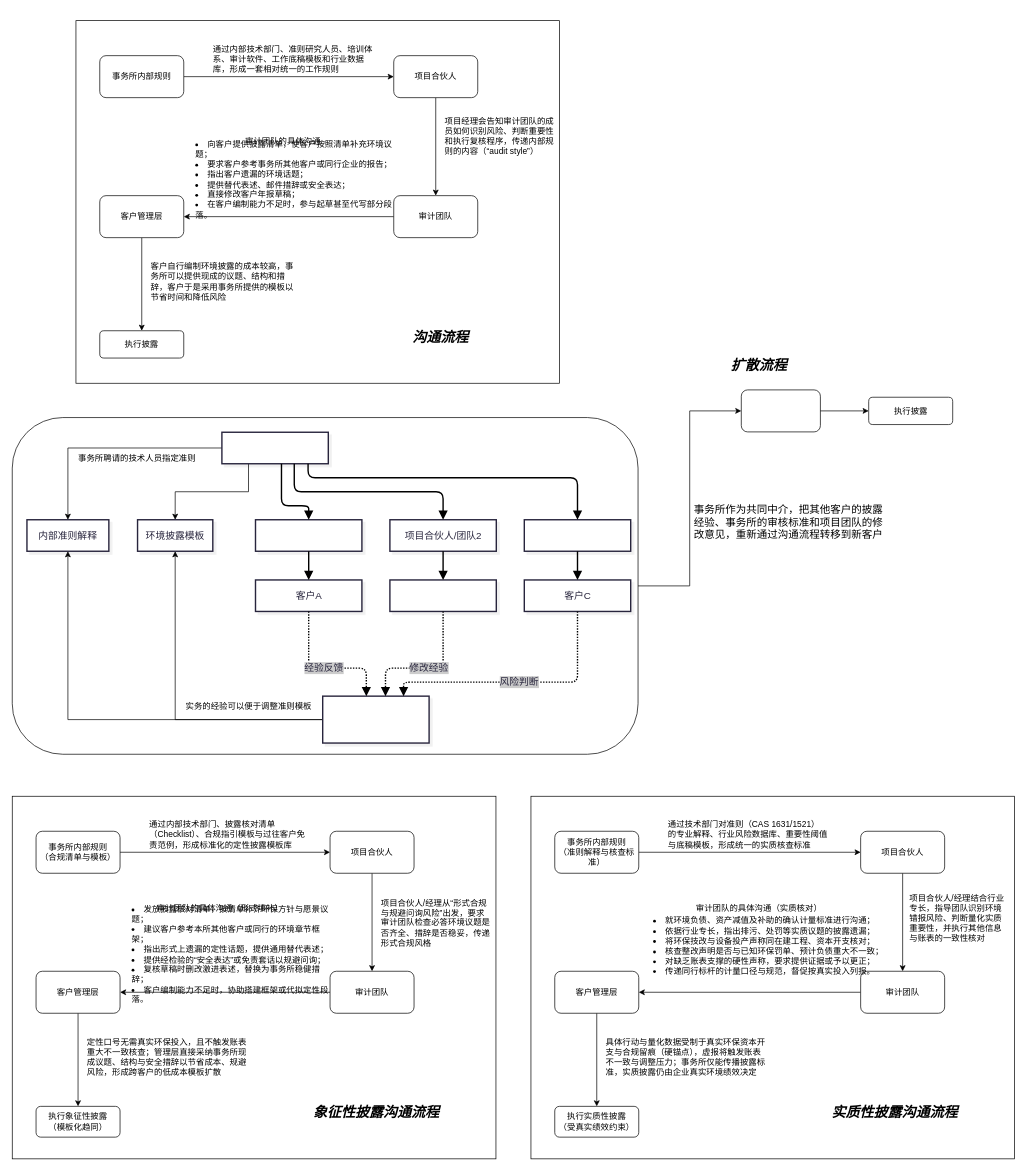
Some shapes in this 1027 by 1171 pixel diagram are drawn without their labels. The shapes that lost their labels are listed below. From the top down, each one's centre as x and y in pixels, then its label:
pixel 780 410: 客户D
pixel 276 449: 同一会计师事务所
pixel 309 536: 项目合伙人/团队1
pixel 578 536: 项目合伙人/团队3
pixel 444 597: 客户B
pixel 377 720: 客户案例和行业数据库
